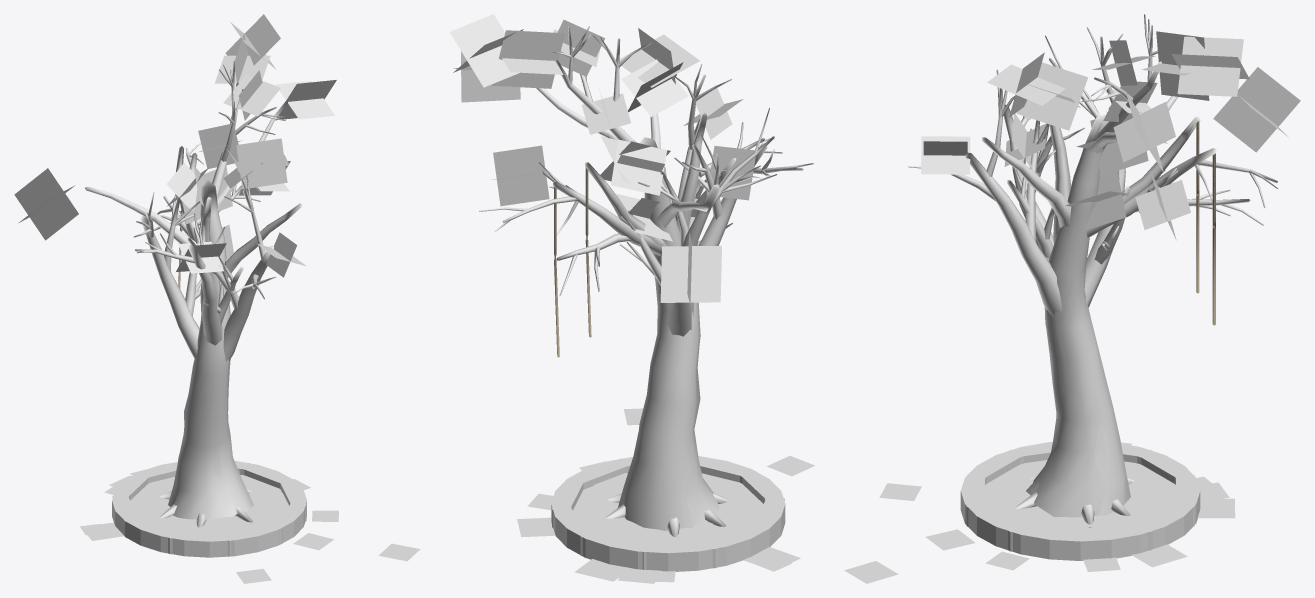
File: Tree_Dead_A.fbx
3 views of the same model, side by side, from view 1: azimuth 30°, elevation 25°; view 2: azimuth 150°, elevation 25°; view 3: azimuth 270°, elevation 25° (orthographic). The views are drawn at different scales.
Visible parts, largest first — view 1: Tree_Dead_A_LOD0_Mesh, Tree_Dead_A_LOD1_Mesh, Tree_Dead_A_LOD0_Mesh_Pit, Tree_Dead_A_LOD1_Mesh_Pit; view 2: Tree_Dead_A_LOD0_Mesh, Tree_Dead_A_LOD1_Mesh, Tree_Dead_A_LOD0_Mesh_Pit, Tree_Dead_A_LOD1_Mesh_Pit; view 3: Tree_Dead_A_LOD0_Mesh, Tree_Dead_A_LOD1_Mesh, Tree_Dead_A_LOD0_Mesh_Pit, Tree_Dead_A_LOD1_Mesh_Pit.
Part boxes in pixels (bbox=[...]): Tree_Dead_A_LOD0_Mesh: bbox=[80, 33, 420, 583]; Tree_Dead_A_LOD1_Mesh: bbox=[14, 14, 336, 540]; Tree_Dead_A_LOD0_Mesh_Pit: bbox=[112, 460, 306, 557]; Tree_Dead_A_LOD1_Mesh_Pit: bbox=[112, 462, 306, 556]; Tree_Dead_A_LOD0_Mesh: bbox=[479, 26, 814, 583]; Tree_Dead_A_LOD1_Mesh: bbox=[449, 14, 800, 564]; Tree_Dead_A_LOD0_Mesh_Pit: bbox=[551, 456, 785, 571]; Tree_Dead_A_LOD1_Mesh_Pit: bbox=[552, 457, 784, 569]; Tree_Dead_A_LOD0_Mesh: bbox=[844, 14, 1278, 583]; Tree_Dead_A_LOD1_Mesh: bbox=[981, 36, 1300, 527]; Tree_Dead_A_LOD0_Mesh_Pit: bbox=[960, 442, 1200, 560]; Tree_Dead_A_LOD1_Mesh_Pit: bbox=[966, 444, 1194, 551].
Size of the model in its own units: 4.92 by 7.49 by 5.91.
